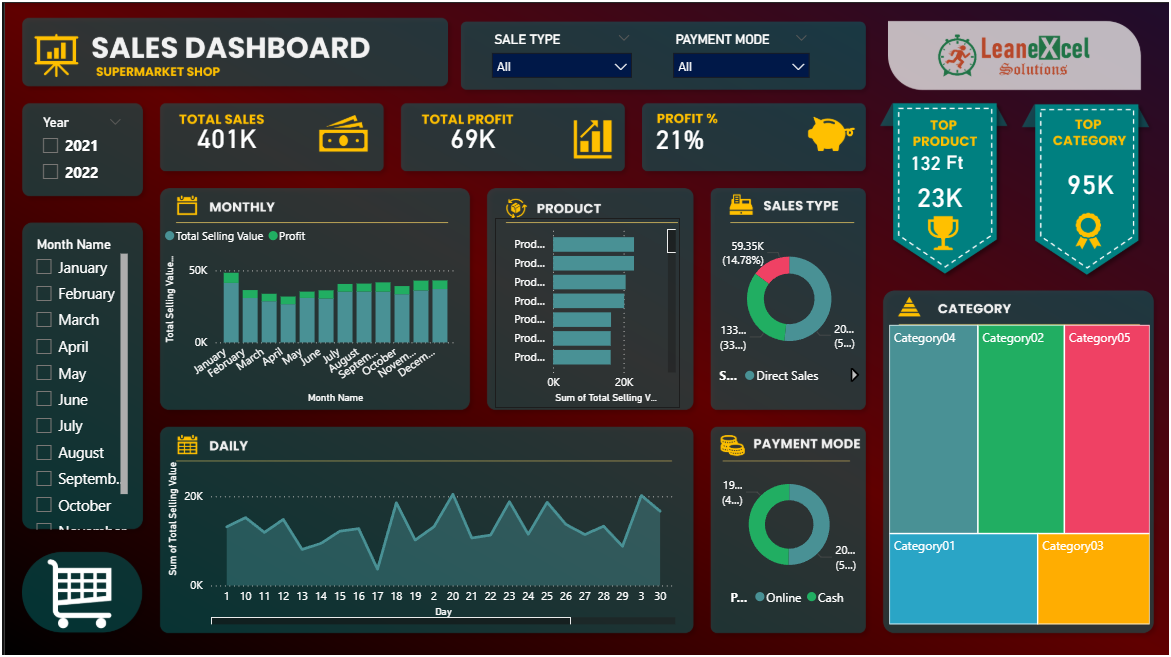

This screenshot's page, from the dashboard's own definition file:
{"tool":"powerbi","page":{"name":"Page 1","canvas":[1280,720],"ordinal":0},"visuals":[{"type":"slicer","fields":{"Values":["InputData.Year"]},"box":[28.8,118,111.1,94.7],"z":0},{"type":"slicer","fields":{"Values":["InputData.Month Name"]},"box":[22,251.1,118,332.1],"z":1000},{"type":"slicer","fields":{"Values":["InputData.SALE TYPE"]},"box":[524.2,26.1,174.3,67.2],"z":2000},{"type":"slicer","fields":{"Values":["InputData.PAYMENT MODE"]},"box":[723.2,26.1,170.2,67.2],"z":3000},{"type":"card","fields":{"Values":["Sum(InputData.Total Selling Value)"]},"box":[170.2,108.4,146.8,78.2],"z":4000},{"type":"card","fields":{"Values":["InputData.Profit %"]},"box":[686.1,109.8,109.8,78.2],"z":5000},{"type":"card","fields":{"Values":["Sum(InputData.QUANTITY)"]},"box":[966,156.4,89.2,39.8],"z":6000},{"type":"card","fields":{"Values":["Sum(InputData.Total Selling Value)"]},"box":[988,181.1,76.8,63.1],"z":7000},{"type":"card","fields":{"Values":["InputData.Profit"]},"box":[440.5,108.4,146.8,78.2],"z":8000},{"type":"card","fields":{"Values":["Min(InputData.MasterData.UOM)"]},"box":[1011.3,159.2,63.1,32.9],"z":9000},{"type":"card","fields":{"Values":["Sum(InputData.Total Selling Value)"]},"box":[1155.4,166,72.7,64.5],"z":10000},{"type":"columnChart","fields":{"Category":["InputData.Month Name"],"Y":["Sum(InputData.Total Selling Value)","InputData.Profit"]},"box":[170.2,236,329.3,208.6],"z":11000},{"type":"clusteredBarChart","fields":{"Y":["Sum(InputData.Total Selling Value)"],"Category":["InputData.MasterData.PRODUCT"]},"box":[537.9,236,203.1,208.6],"z":12000},{"type":"areaChart","fields":{"Category":["InputData.Day"],"Y":["Sum(InputData.Total Selling Value)"]},"box":[174.3,478.9,566.7,208.6],"z":13000},{"type":"donutChart","fields":{"Y":["Sum(InputData.Total Selling Value)"],"Category":["InputData.SALE TYPE"]},"box":[779.4,251.1,163.3,177],"z":14000},{"type":"donutChart","fields":{"Y":["Sum(InputData.Total Selling Value)"],"Category":["InputData.PAYMENT MODE"]},"box":[779.4,503.6,163.3,167.4],"z":15000},{"type":"treemap","fields":{"Group":["InputData.MasterData.CATEGORY"],"Values":["Sum(InputData.Total Selling Value)"]},"box":[965.6,348.5,295.7,338.7],"z":16000}]}

Visuals, with their boxes in screenshot pixels (x1, y1, x2, y2), scaled from the page's 1280x720 canvas onto the 1171x657 screenshot:
slicer - InputData.Year: 26:108:128:194
slicer - InputData.Month Name: 20:229:128:532
slicer - InputData.SALE TYPE: 480:24:639:85
slicer - InputData.PAYMENT MODE: 662:24:817:85
card - Sum(InputData.Total Selling Value): 156:99:290:170
card - InputData.Profit %: 628:100:728:172
card - Sum(InputData.QUANTITY): 884:143:965:179
card - Sum(InputData.Total Selling Value): 904:165:974:223
card - InputData.Profit: 403:99:537:170
card - Min(InputData.MasterData.UOM): 925:145:983:175
card - Sum(InputData.Total Selling Value): 1057:151:1124:210
columnChart - InputData.Month Name x Sum(InputData.Total Selling Value): 156:215:457:406
clusteredBarChart - Sum(InputData.Total Selling Value) x InputData.MasterData.PRODUCT: 492:215:678:406
areaChart - InputData.Day x Sum(InputData.Total Selling Value): 159:437:678:627
donutChart - Sum(InputData.Total Selling Value) x InputData.SALE TYPE: 713:229:862:391
donutChart - Sum(InputData.Total Selling Value) x InputData.PAYMENT MODE: 713:460:862:612
treemap - InputData.MasterData.CATEGORY x Sum(InputData.Total Selling Value): 883:318:1154:627
